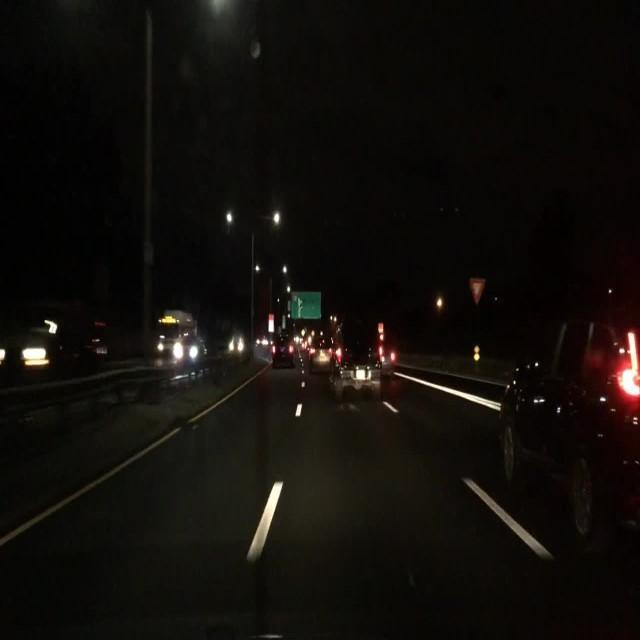normal: (482, 285, 640, 565), (300, 295, 400, 410)
